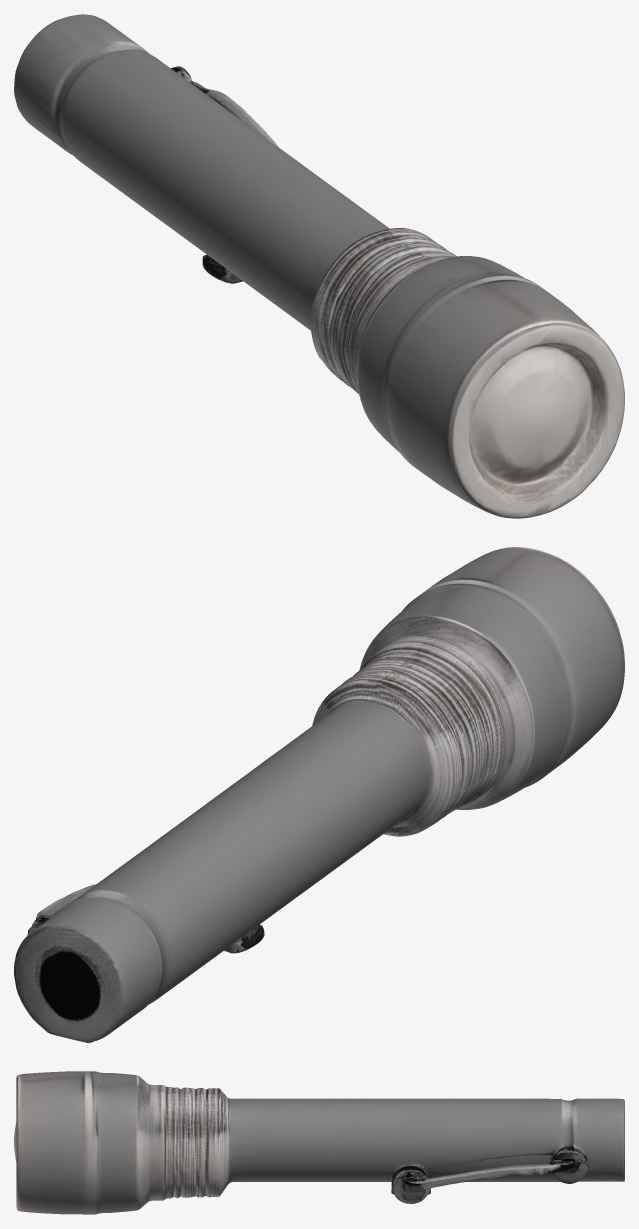
The model's file is vet_equip_penlight.glb.
3 renders of one model, top to bottom at view 1: azimuth 30°, elevation 25°; view 2: azimuth 150°, elevation 25°; view 3: azimuth 270°, elevation 25°, orthographic. The views are drawn at different scales.
Parts seen in each view (by area): view 1: model; view 2: model; view 3: model.
Boxes of the visible parts, x1,y1,x2,y2 form: model: [14, 14, 624, 518]; model: [14, 547, 624, 1042]; model: [14, 1071, 624, 1214].
Size of the model in its own units: 0.4326 by 0.4448 by 1.9.
Materials: 1 (1 with a texture image).
